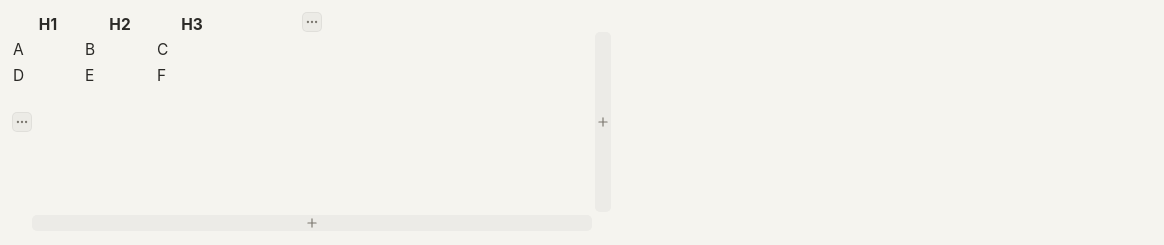
Test: TableControlsOverlay › actions: 在左侧插入列
This screenshot has width=1164, height=245.
Expected: the button named "在表格右侧新增列" is shown, [595, 32, 611, 212]
Click the button named "当前列操作" at (312, 22), box [302, 12, 322, 32]
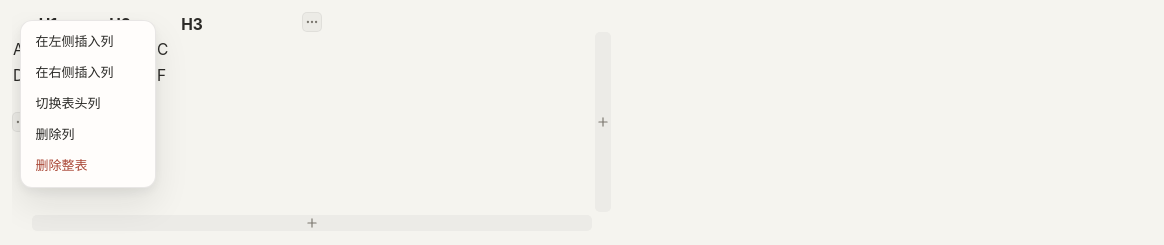
Result: the element with class "table-action-menu" is shown at [20, 20, 156, 188]
Result: the button "在左侧插入列" is shown
Click the button "在左侧插入列" at (88, 42), box [27, 27, 149, 58]
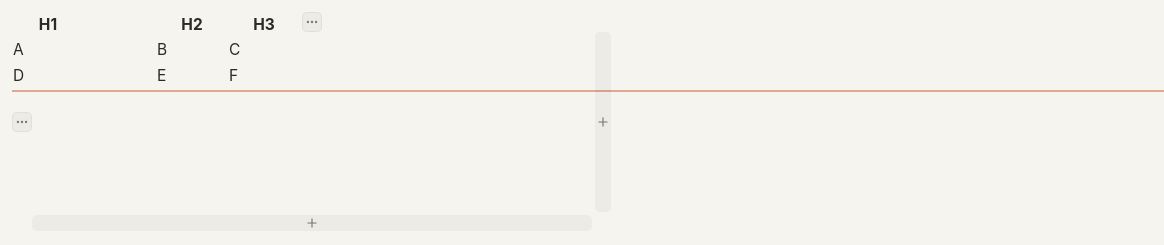
Result: the element with class "table-action-menu" is gone
